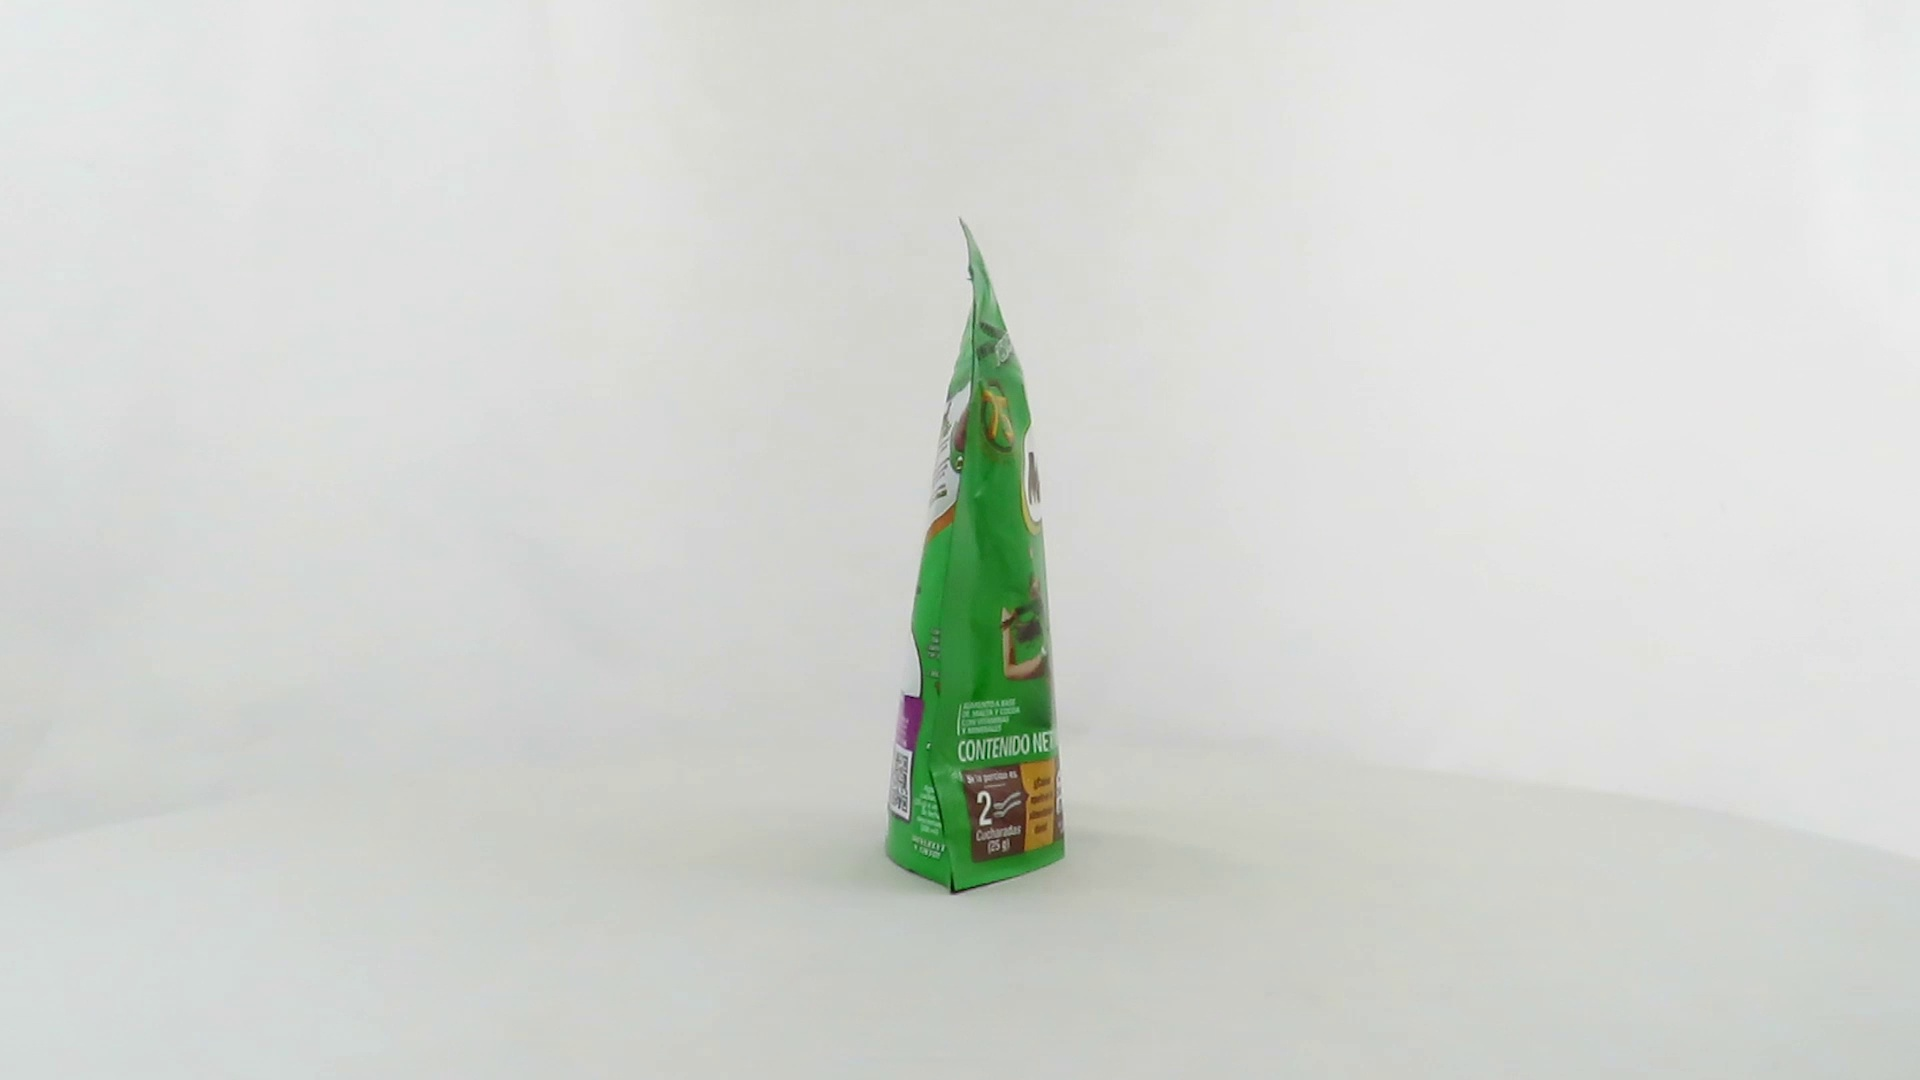COL0170203DYP10000: (862, 211, 1071, 901)
